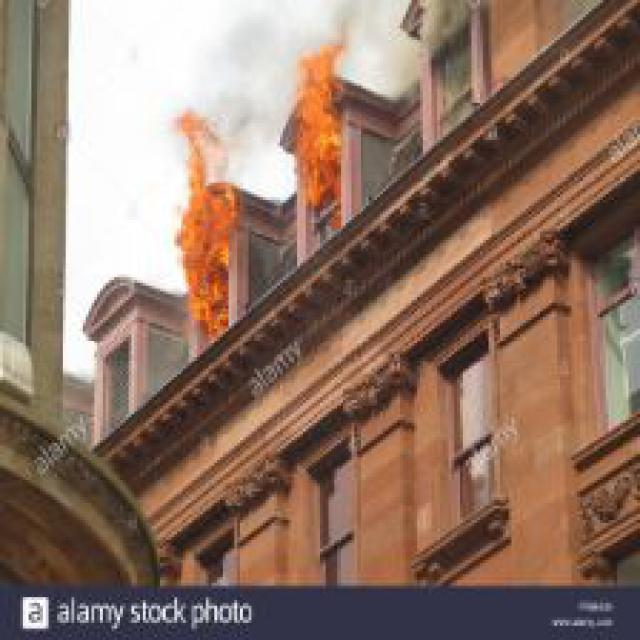fire: (152, 88, 274, 346), (257, 28, 377, 243)
